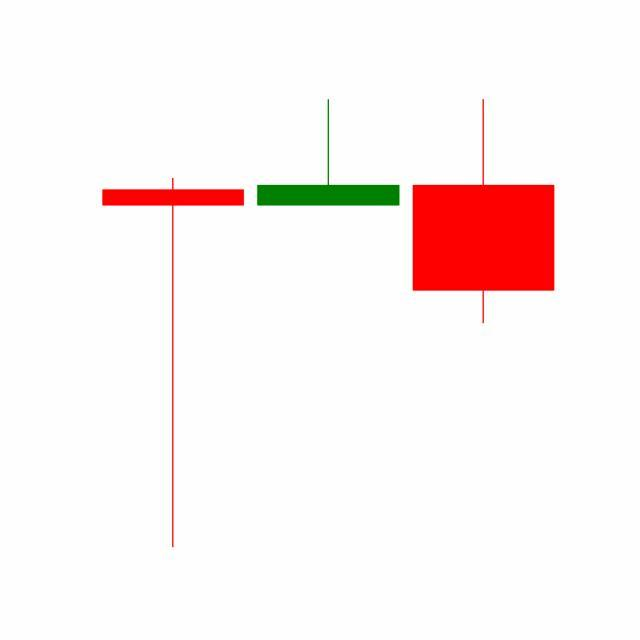Gravestone Doji: (250, 98, 407, 207)
